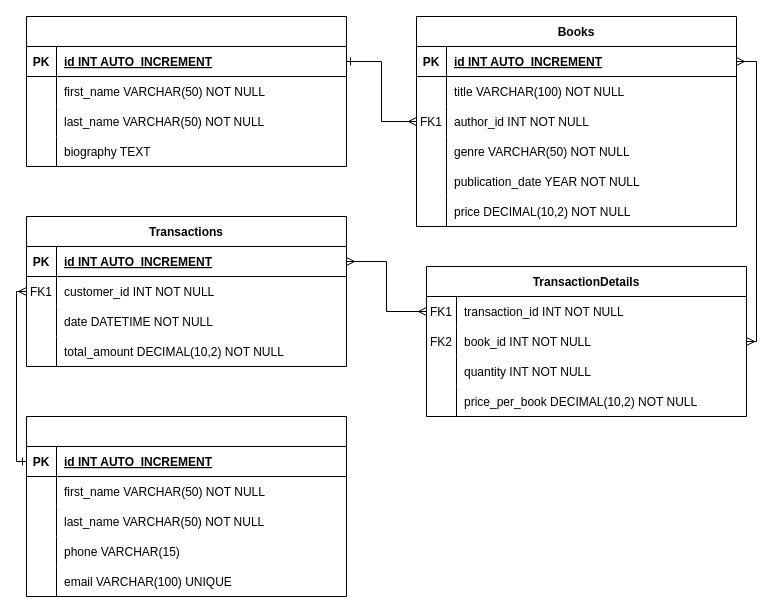
Some shapes in this 773 by 613 pixel diagram are drawn without their labels. Each missing label, with the box of its shape:
Authors: (26, 16, 346, 166)
Customers: (26, 416, 346, 596)
